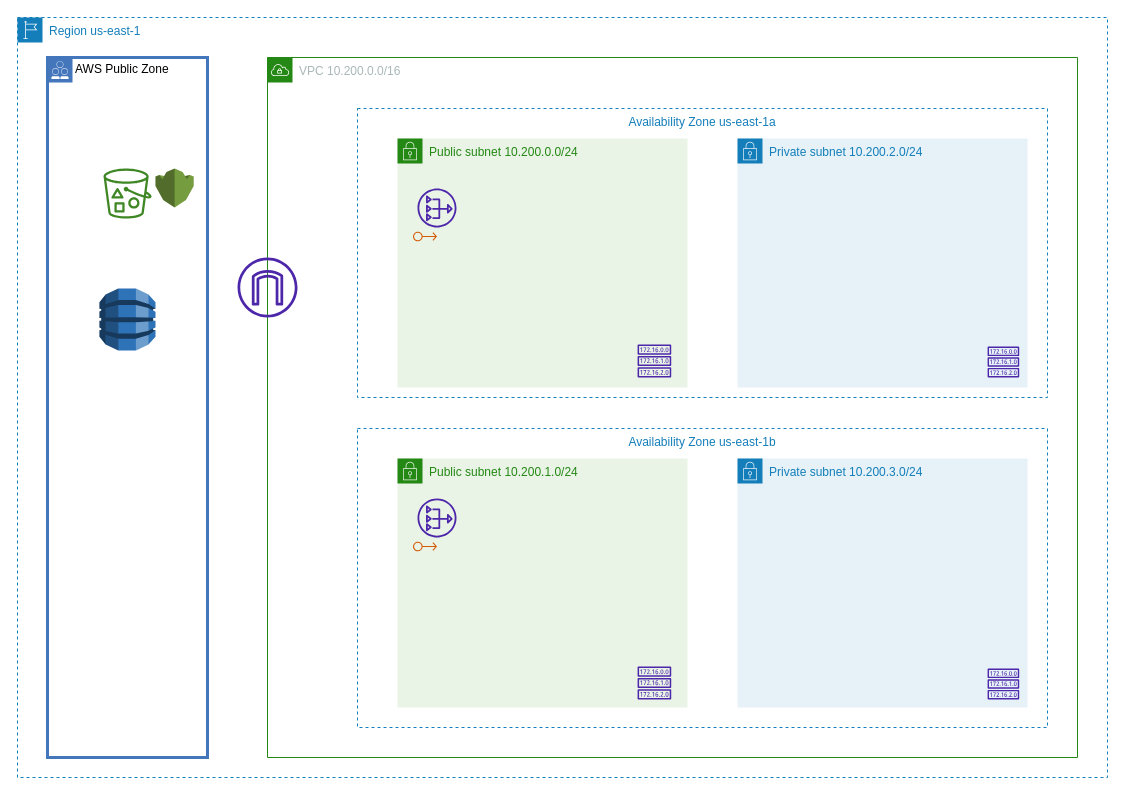
This 1125x795 diagram has some shape labels left out. The centre of each missing label's shape, as x and y in pixels:
"Remote tfstate encrypted bucket" belongs at pixel 127 193.
"Remote tfstate lock table" belongs at pixel 127 319.
